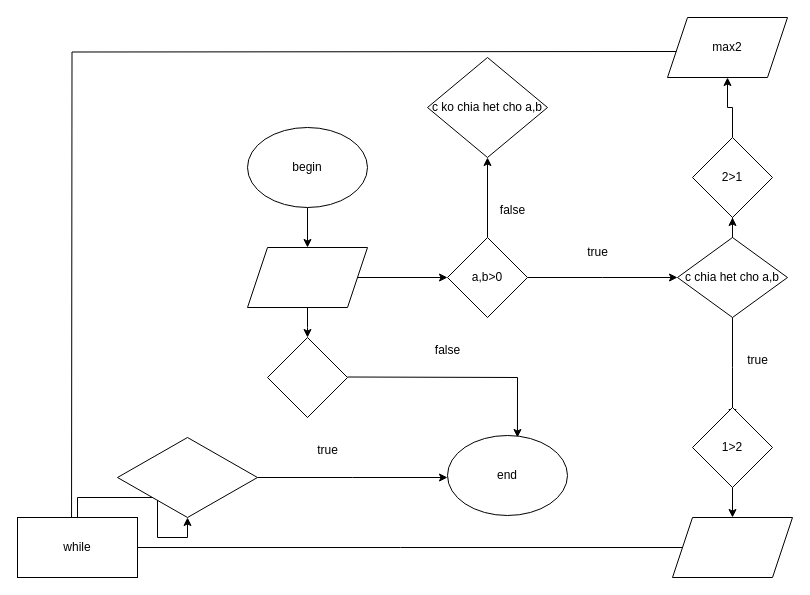
Some shapes in this 810 by 595 pixel diagram are drawn without their labels. Each missing label, with the centre of its shape:
"a,b,c" goes at (x=307, y=277).
"a,b=0" goes at (x=307, y=377).
"max 1" goes at (x=732, y=547).
"max chia het cho a,b" goes at (x=187, y=477).
